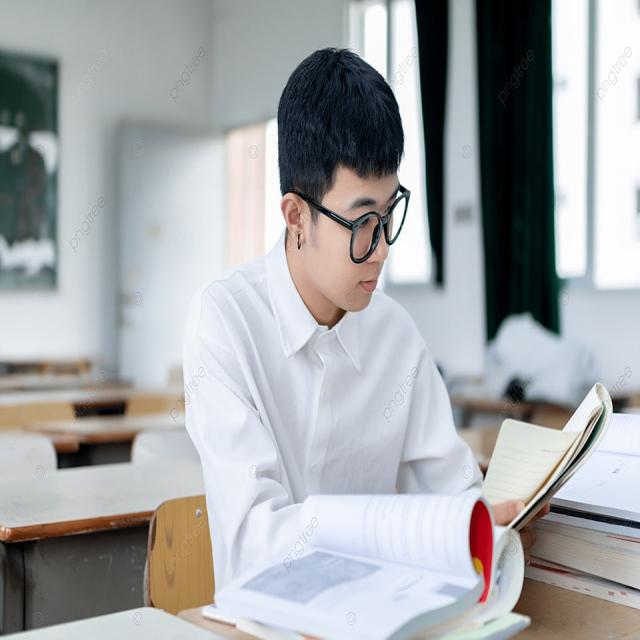studying-person: (174, 33, 640, 640)
